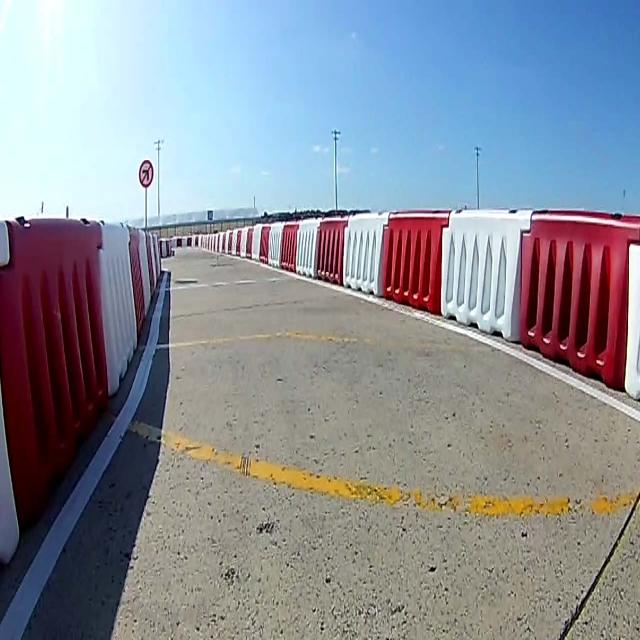soladonulmez: (138, 159, 154, 188)
